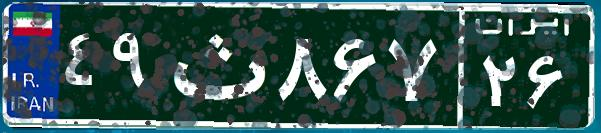2: (475, 38, 525, 113)
4: (57, 26, 110, 107)
6: (330, 28, 385, 110), (525, 38, 570, 115)
7: (385, 28, 445, 110)
8: (273, 28, 330, 110)
9: (110, 28, 158, 105)
ث: (158, 15, 273, 115)
